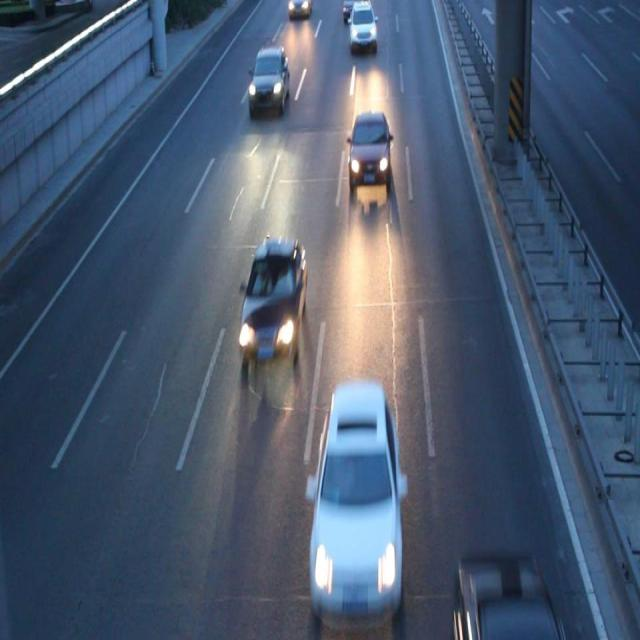car: (305, 381, 406, 605), (238, 238, 306, 362), (347, 112, 392, 190), (247, 46, 289, 114), (350, 2, 376, 48)
